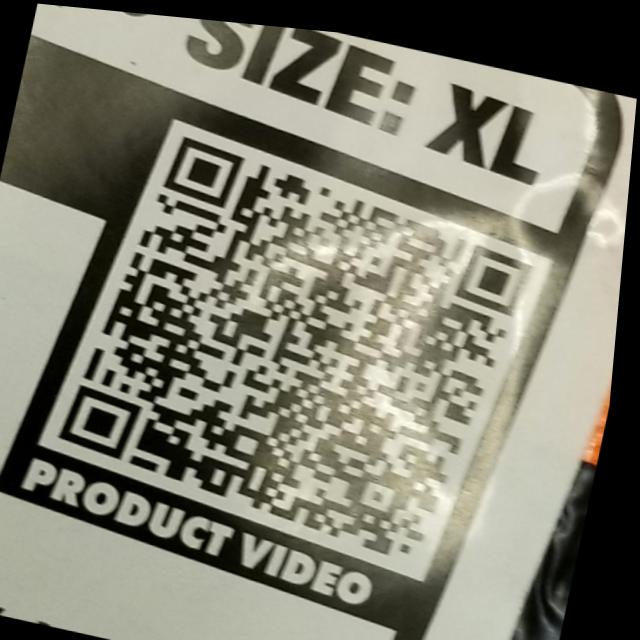QR_CODE: (34, 86, 574, 586)
